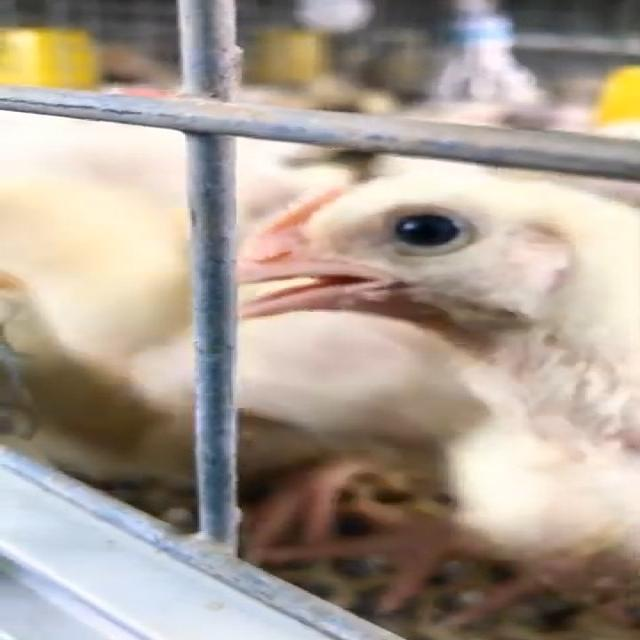Breathing: (195, 146, 640, 598)
